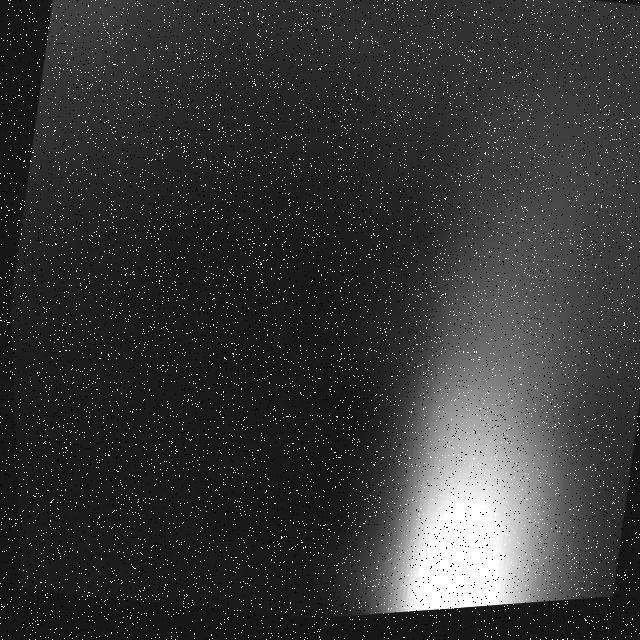person: (322, 165, 640, 623)
